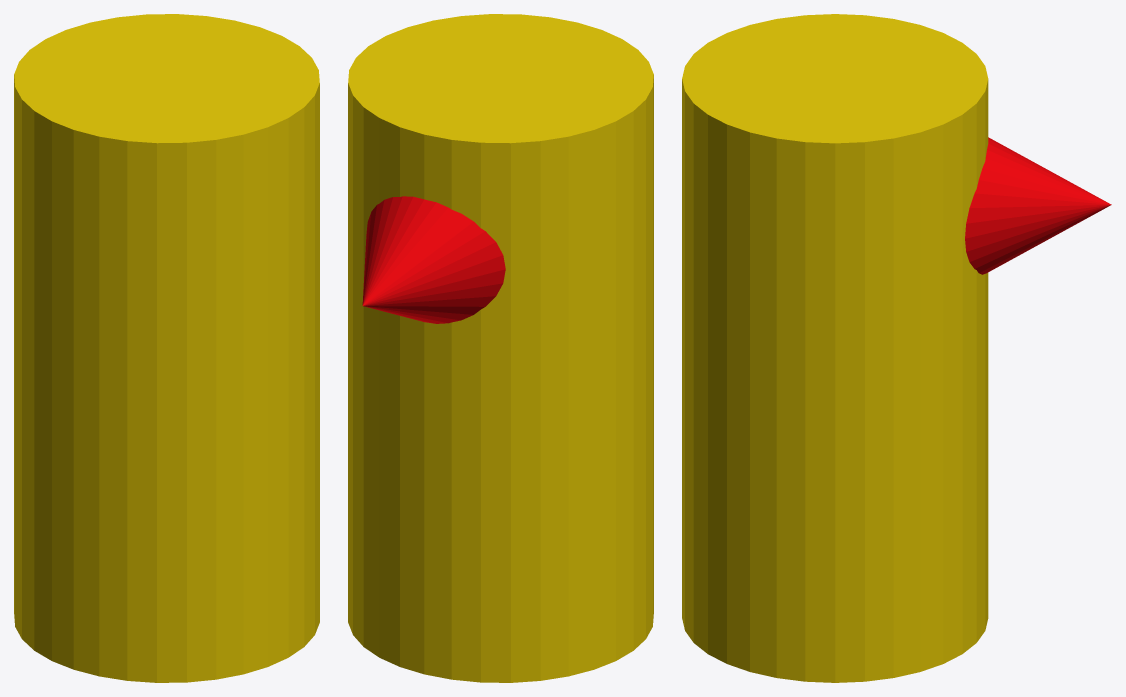
File: worker.glb
3 renders of one model, left to right at view 1: azimuth 30°, elevation 25°; view 2: azimuth 150°, elevation 25°; view 3: azimuth 270°, elevation 25°, orthographic.
Parts seen in each view (by area): view 1: Cylinder; view 2: Cylinder; view 3: Cylinder.
Part boxes in pixels (bbox=[...]): Cylinder: bbox=[14, 14, 319, 682]; Cylinder: bbox=[348, 14, 653, 682]; Cylinder: bbox=[682, 14, 1111, 682].
Bounding box in the file's own units: 1 × 1.94 × 1.4.
